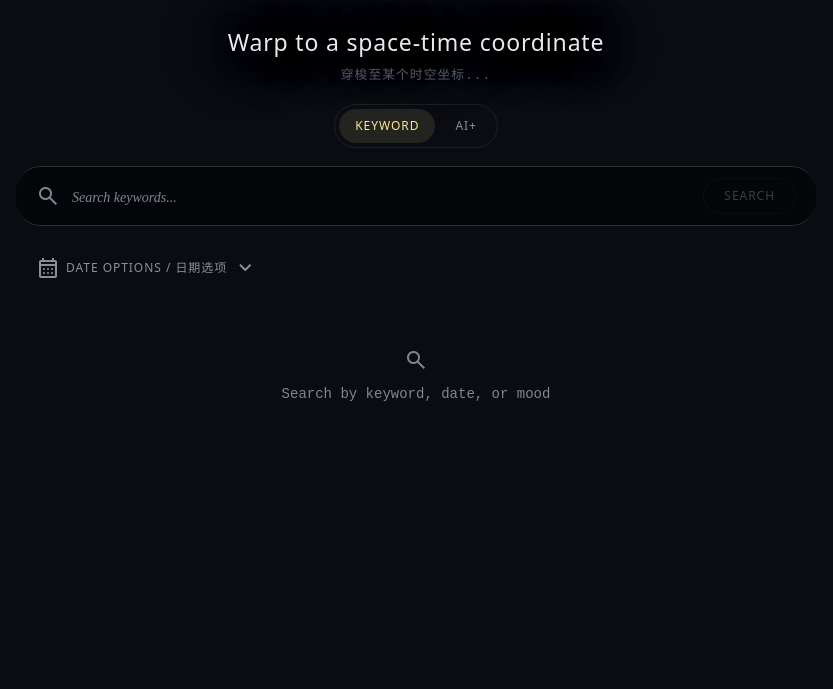
it: Recall › renders a two-turn Host Agent conversation with badge, reason, and evidence links
Click the tab with test id "tab-agent": (466, 126) [439, 109, 493, 143]
(page scrolled)
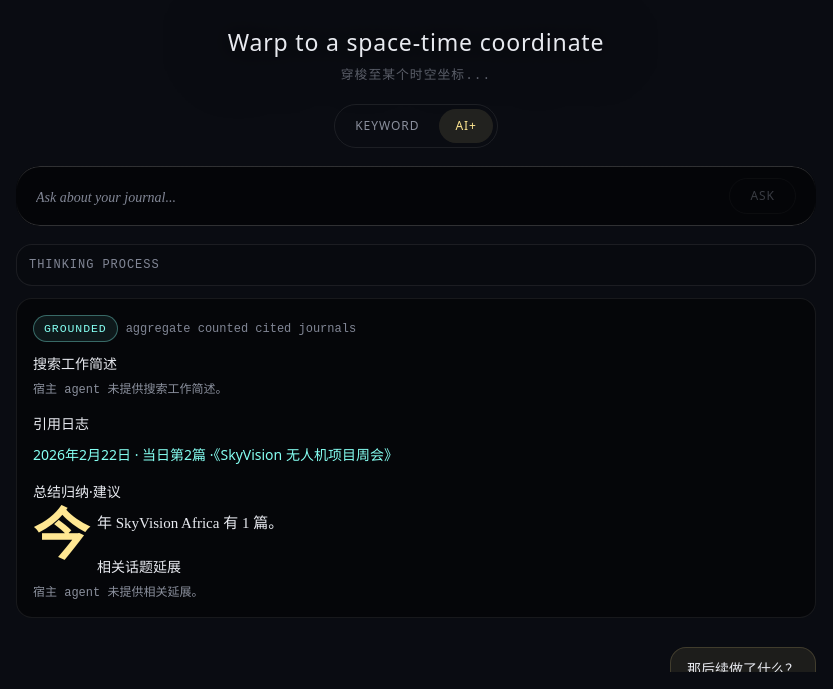
Now the text with test id "agent-turn-user" reads "那后续做了什么？", box [687, 662, 799, 672]
Now the text with test id "host-agent-mode-badge" reads "GROUNDED", box [44, 322, 107, 335]
Now the text with test id "host-agent-reason" reads "aggregate counted cited journals", box [126, 322, 356, 336]
